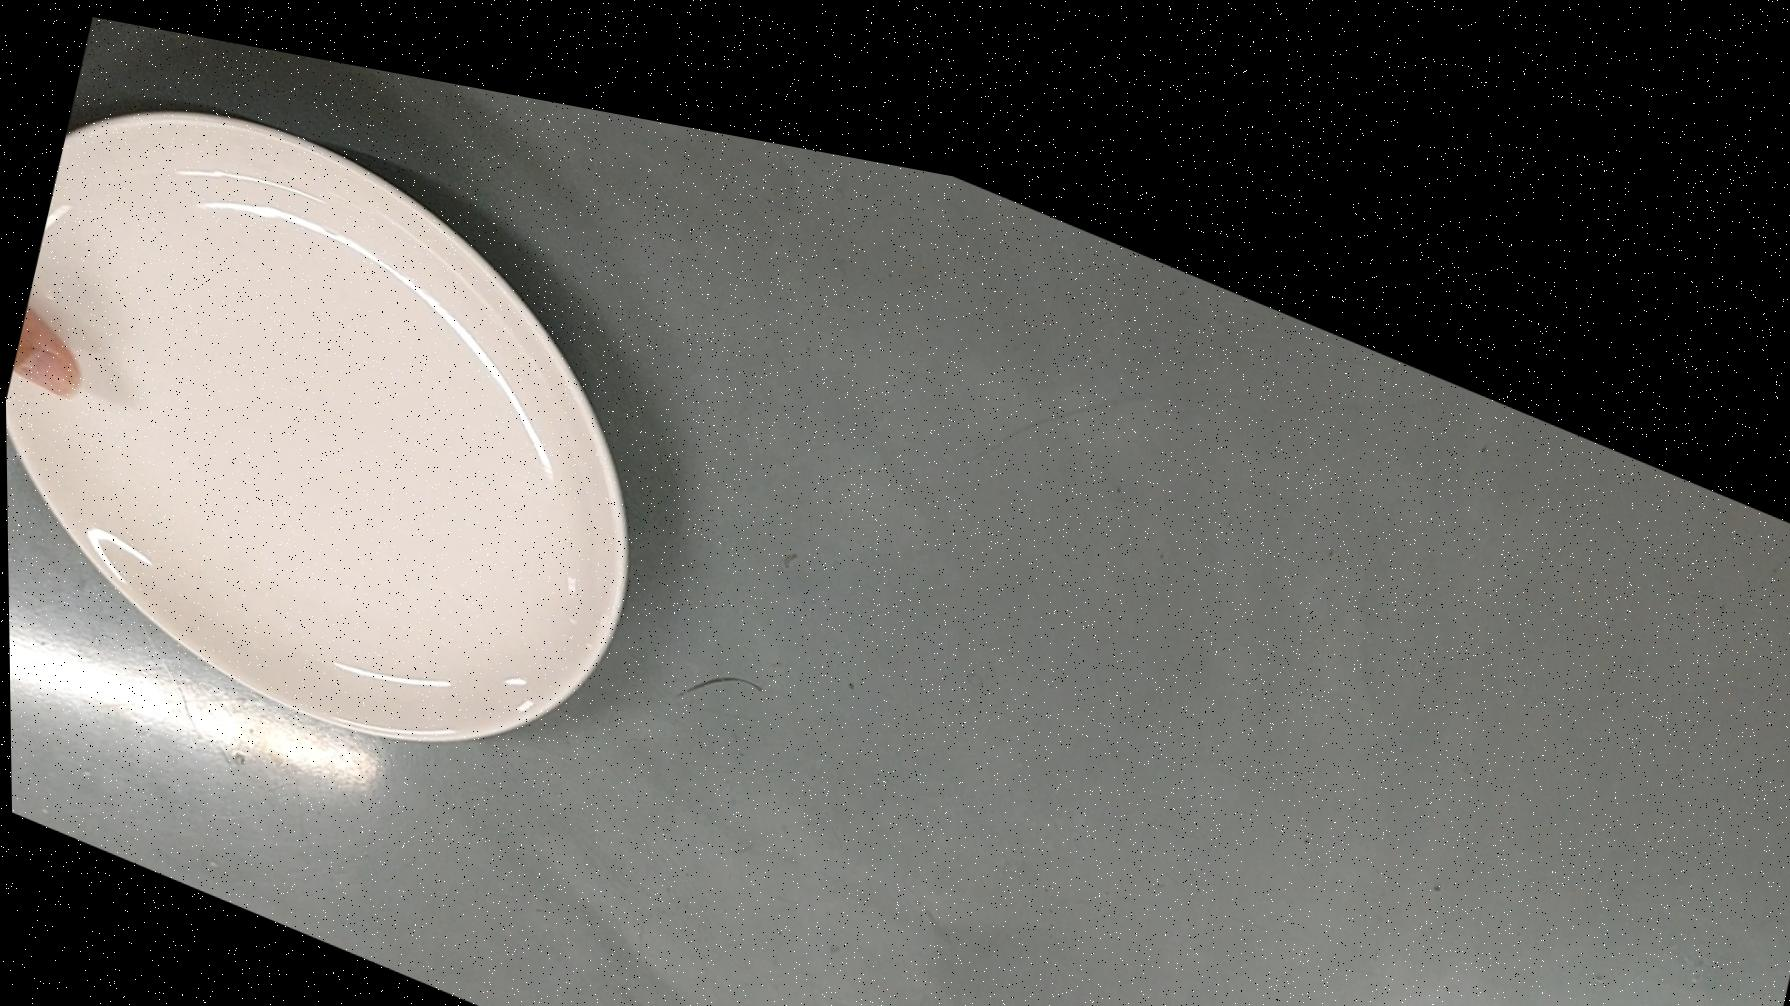plate: (0, 30, 697, 823)
